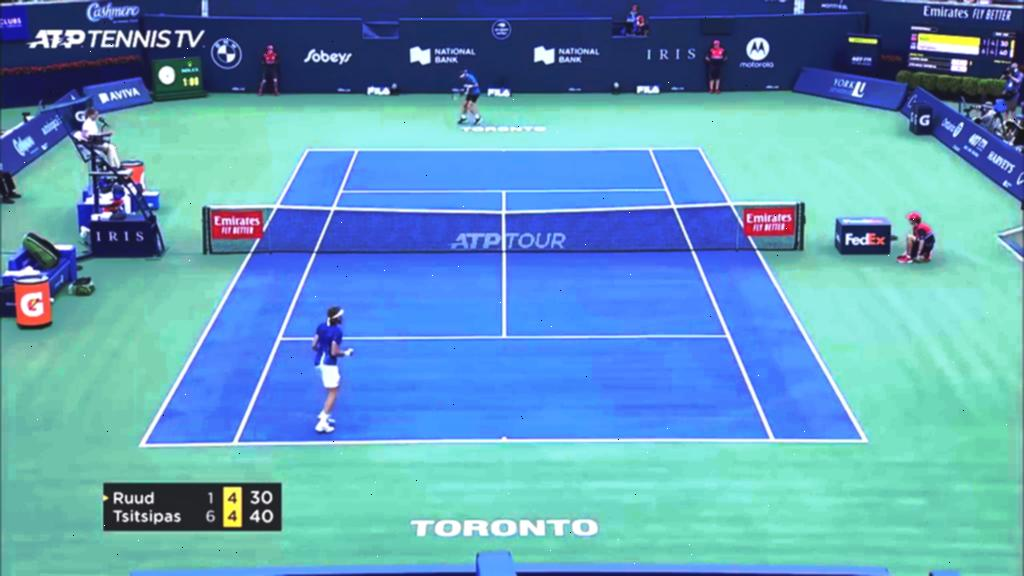tennis-court: (138, 148, 869, 446)
